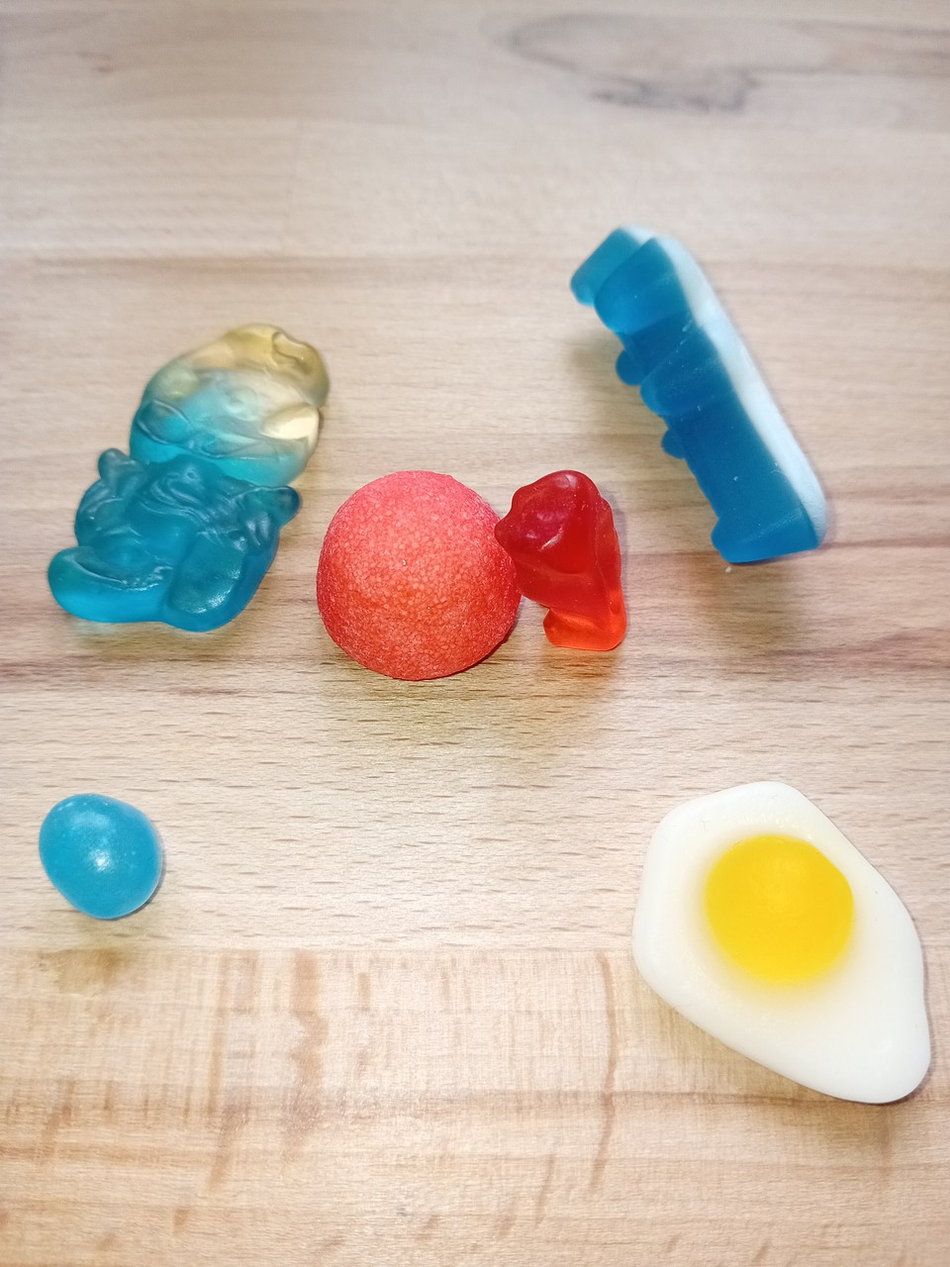crocodile_bleu: (565, 220, 833, 569)
dragibus_bleu: (36, 790, 164, 923)
oeuf_oeuf: (610, 777, 939, 1110)
ourson_orangeFonce: (493, 464, 637, 657)
schtroumpf_bleu-blanc: (32, 319, 336, 633)
tagada_fraise: (313, 470, 522, 682)
